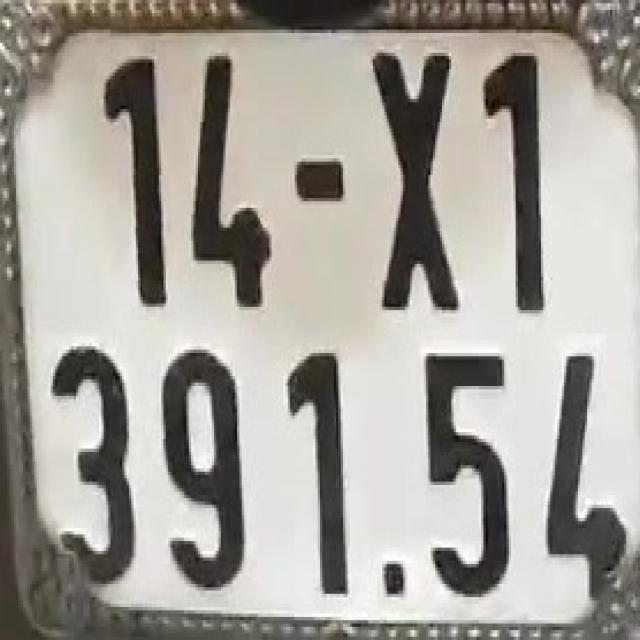1: (476, 43, 562, 317), (94, 43, 178, 313), (279, 340, 366, 600)
3: (46, 340, 140, 590)
4: (184, 43, 281, 313), (536, 340, 631, 607)
5: (410, 336, 518, 604)
9: (154, 337, 256, 597)
X: (371, 56, 467, 304)
